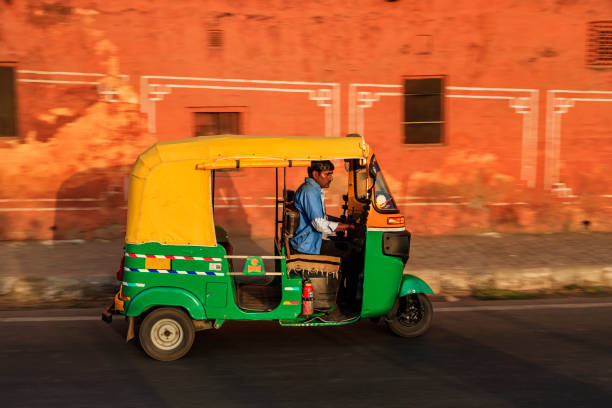threewheel: (114, 131, 434, 361)
